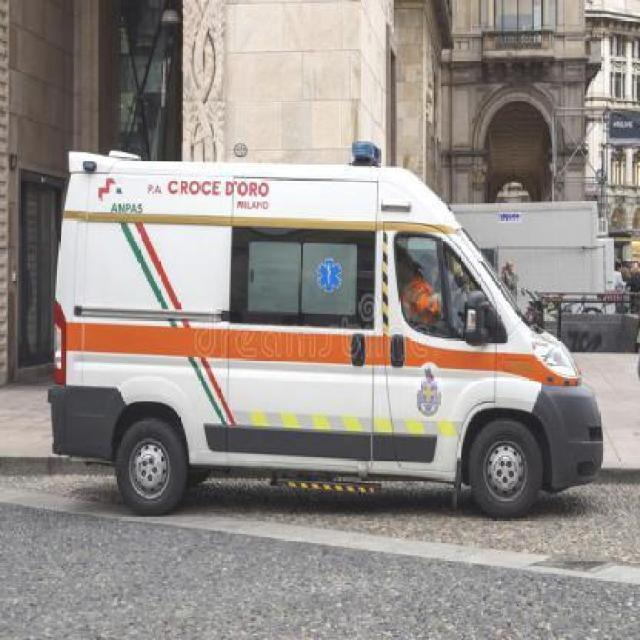emergency: (46, 140, 604, 520)
